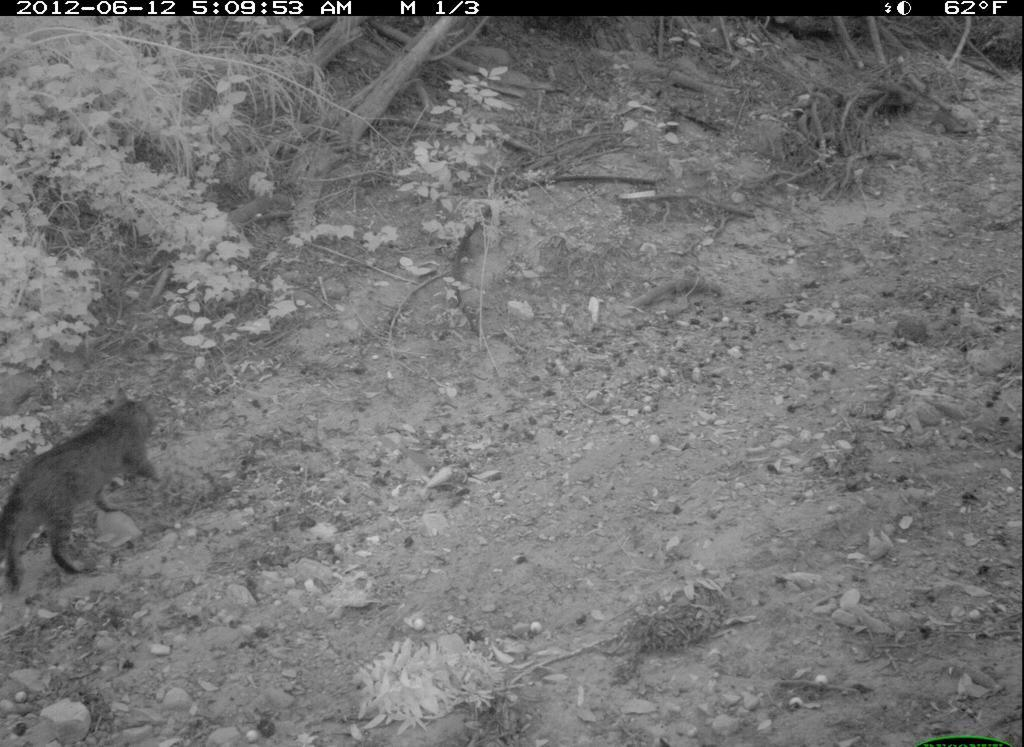cat: (8, 377, 184, 594)
